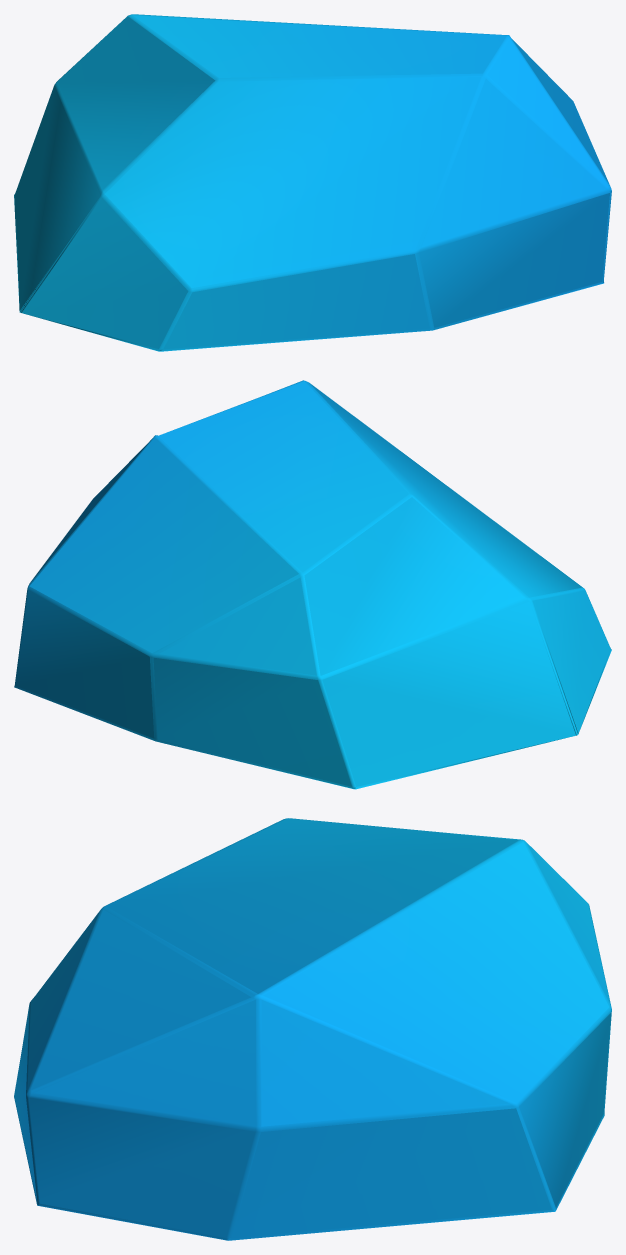
Rendered from stone01.FBX.
3 views of the same model, one above another, from view 1: azimuth 30°, elevation 25°; view 2: azimuth 150°, elevation 25°; view 3: azimuth 270°, elevation 25° (orthographic). The views are drawn at different scales.
Visible parts, largest first — view 1: OBJ_1749; view 2: OBJ_1749; view 3: OBJ_1749.
Boxes of the visible parts, bbox=[...] form: OBJ_1749: bbox=[14, 14, 611, 351]; OBJ_1749: bbox=[14, 380, 611, 789]; OBJ_1749: bbox=[14, 818, 611, 1240].
Bounding box in the file's own units: 260 × 98.28 × 214.
